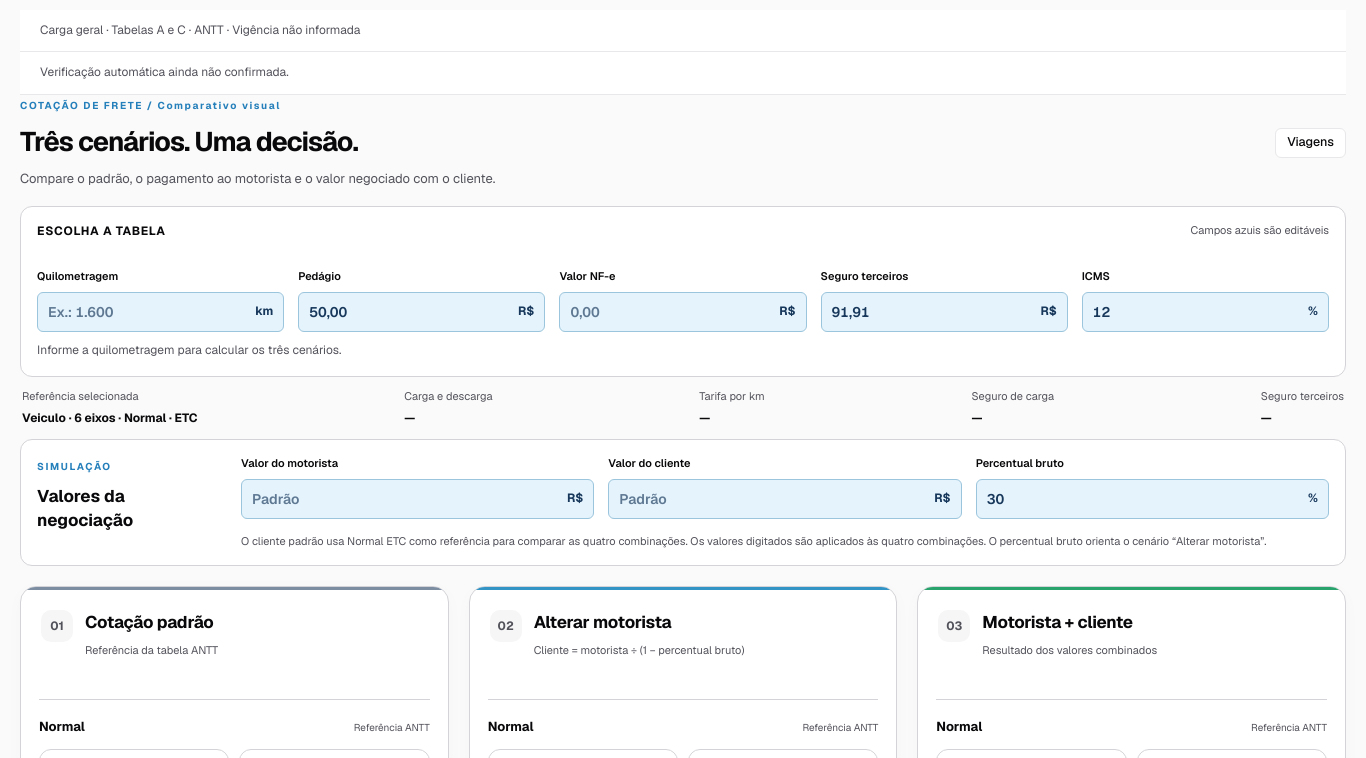
Test: reproduz a planilha com impostos nos custos e percentual bruto separado do líquido
The image size is (1366, 758).
expect the field labelled "Seguro terceiros" holds "91,91": met, box [822,293,1040,331]
Replace the text in the field labelled "Pedágio" with "0" at (409, 312), box [299,293,518,331]
Replace the text in the field labelled "Seguro terceiros" with "141,91" at (931, 312), box [822,293,1040,331]
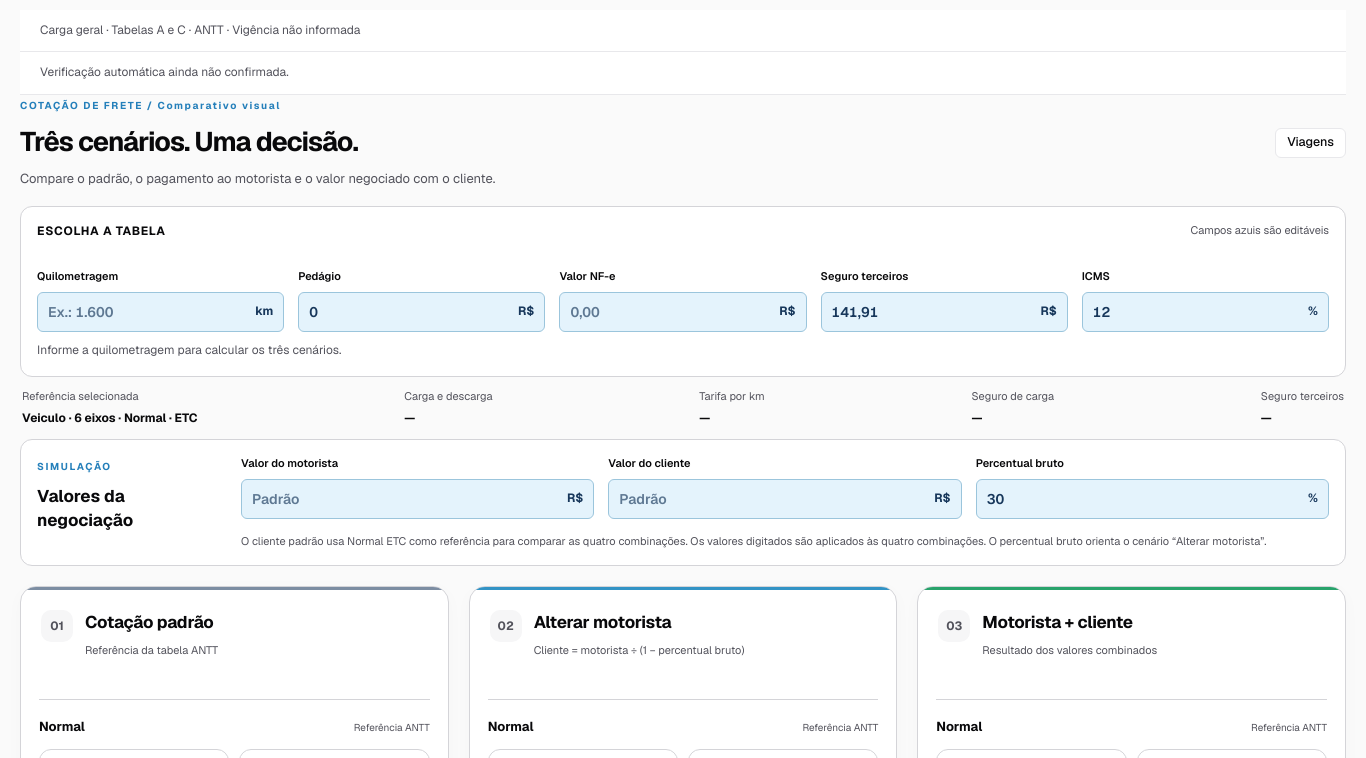
Type "1000" into the field labelled "Quilometragem" at (147, 312), box [38,293,255,331]
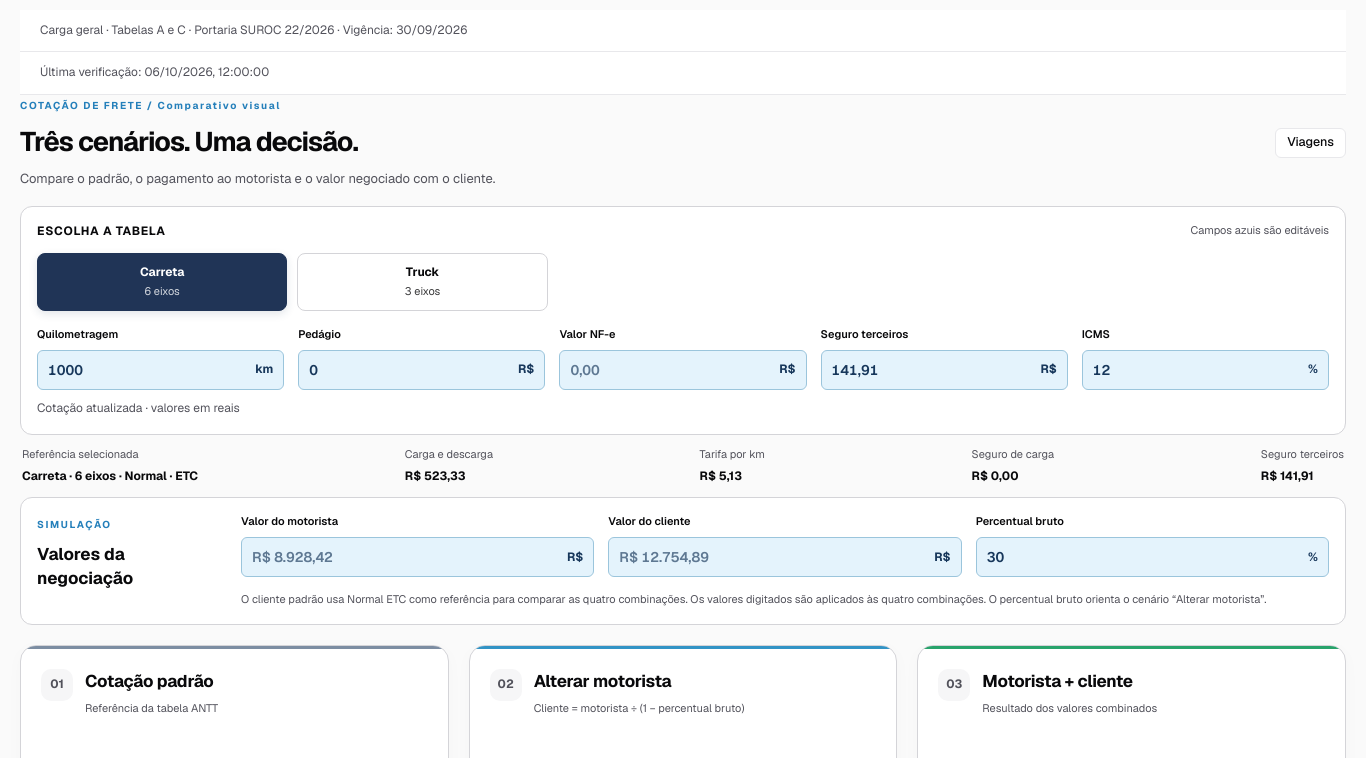
Type "9000" into the field labelled "Valor do motorista" at (404, 557), box [242,538,567,576]
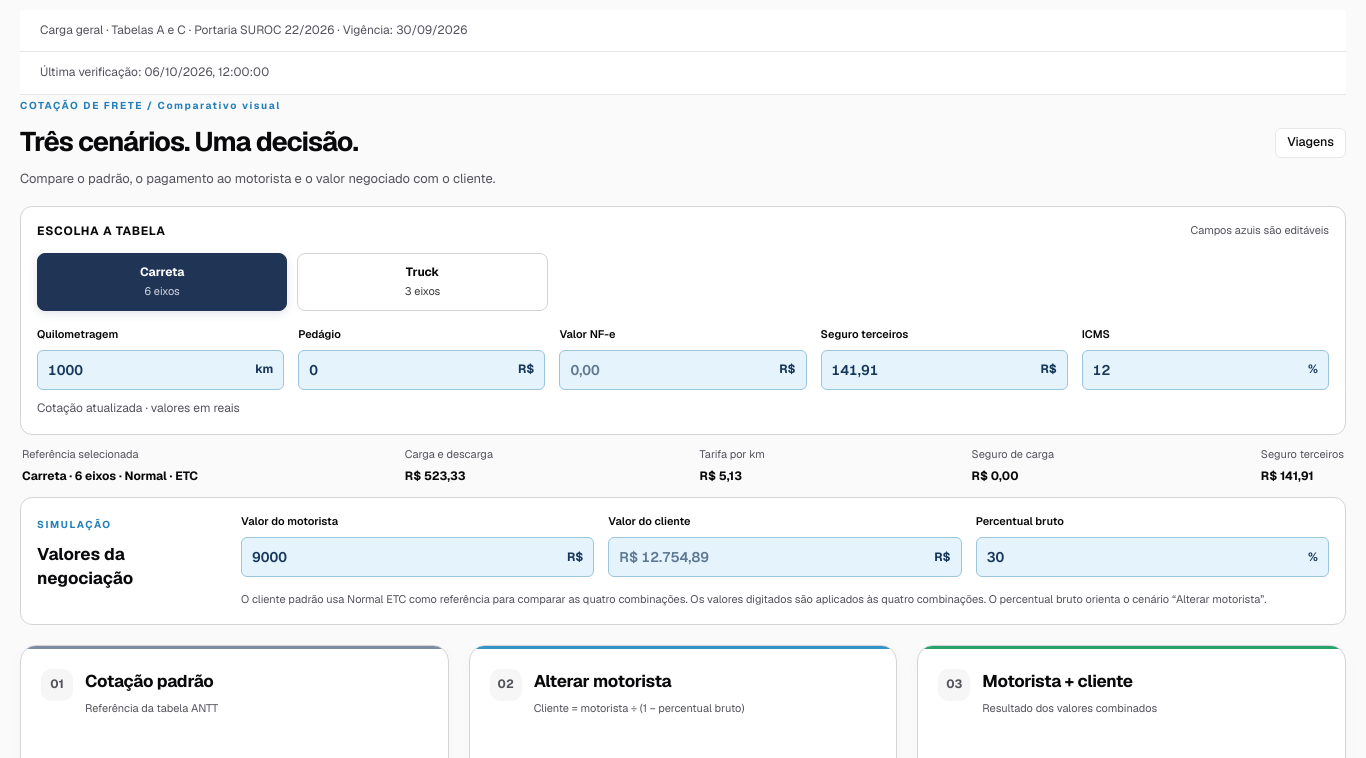
Replace the text in the field labelled "Percentual bruto" with "25" at (1142, 557), box [977,538,1308,576]
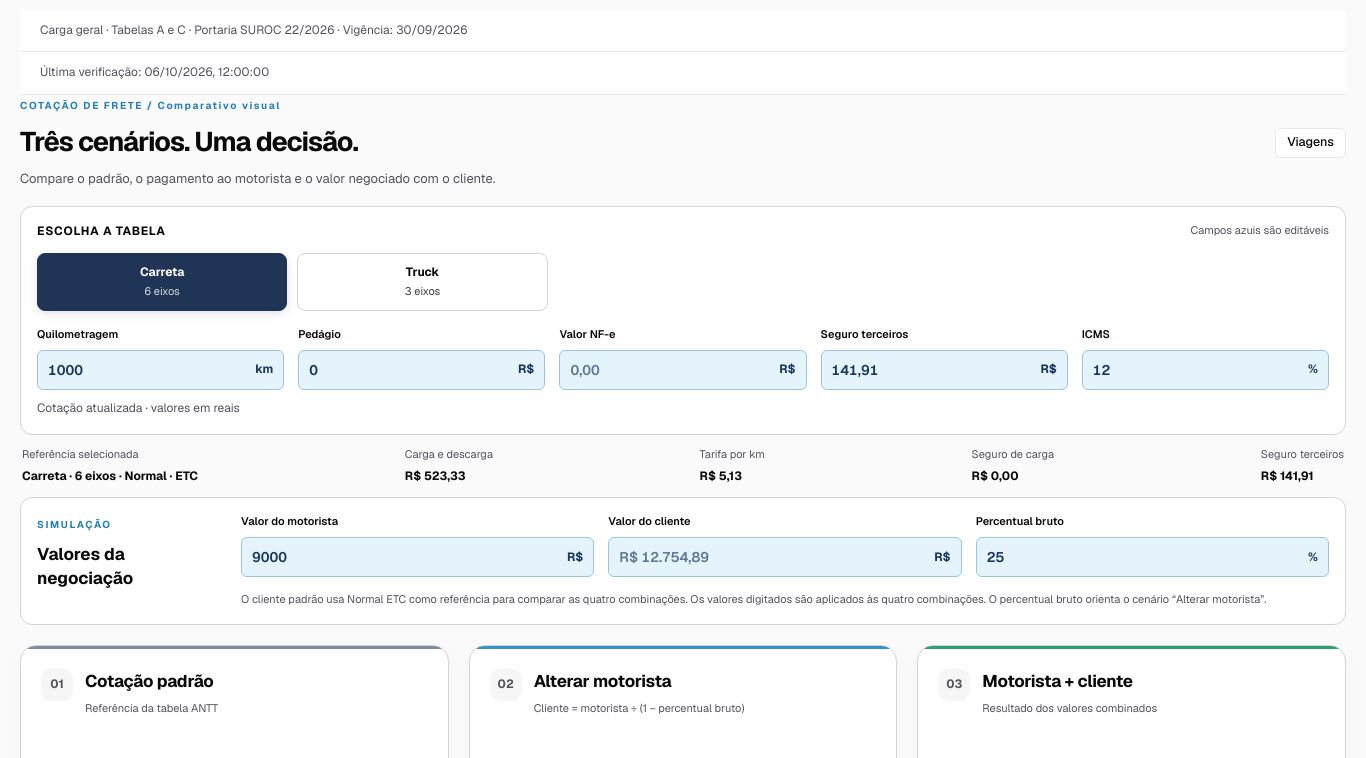
Replace the text in the field labelled "Percentual bruto" with "0" at (1142, 557), box [977,538,1308,576]
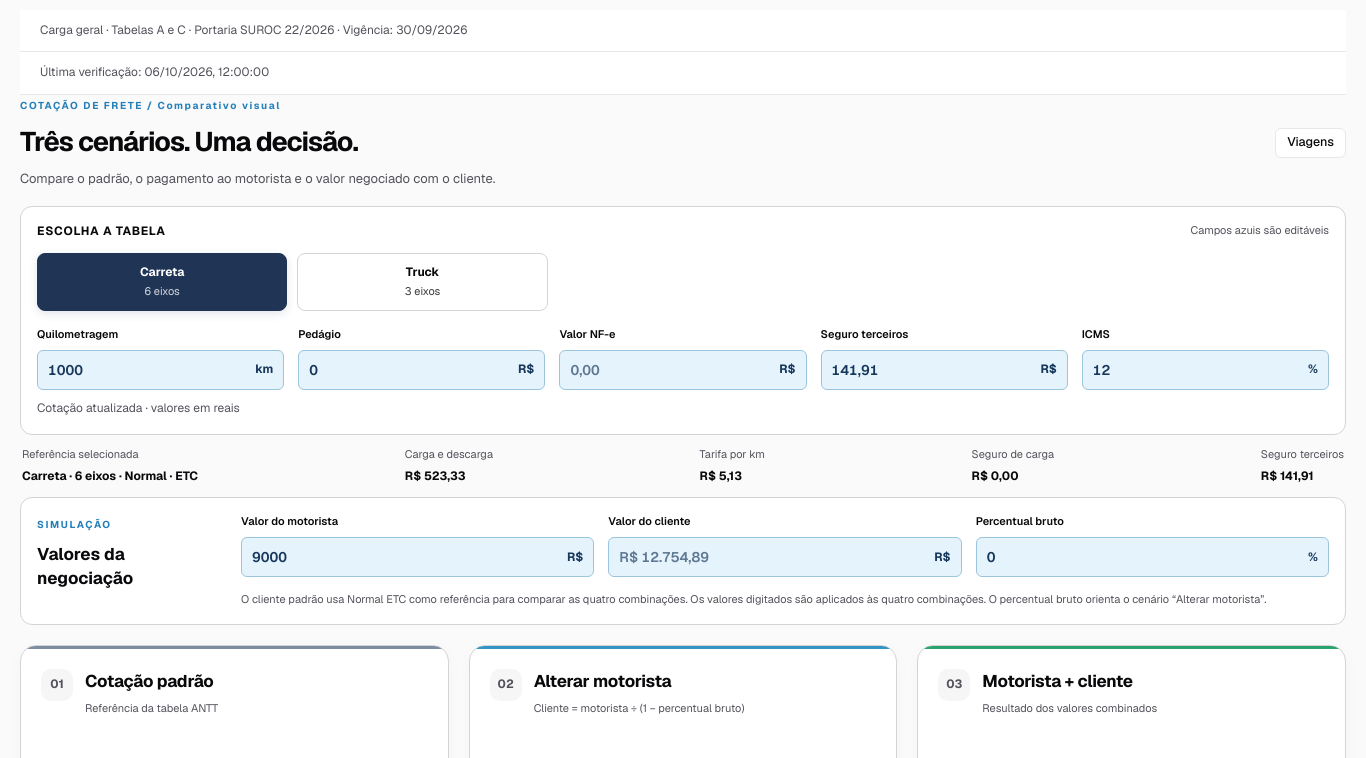
Replace the text in the field labelled "Percentual bruto" with "100" at (1142, 557), box [977,538,1308,576]
(page scrolled)
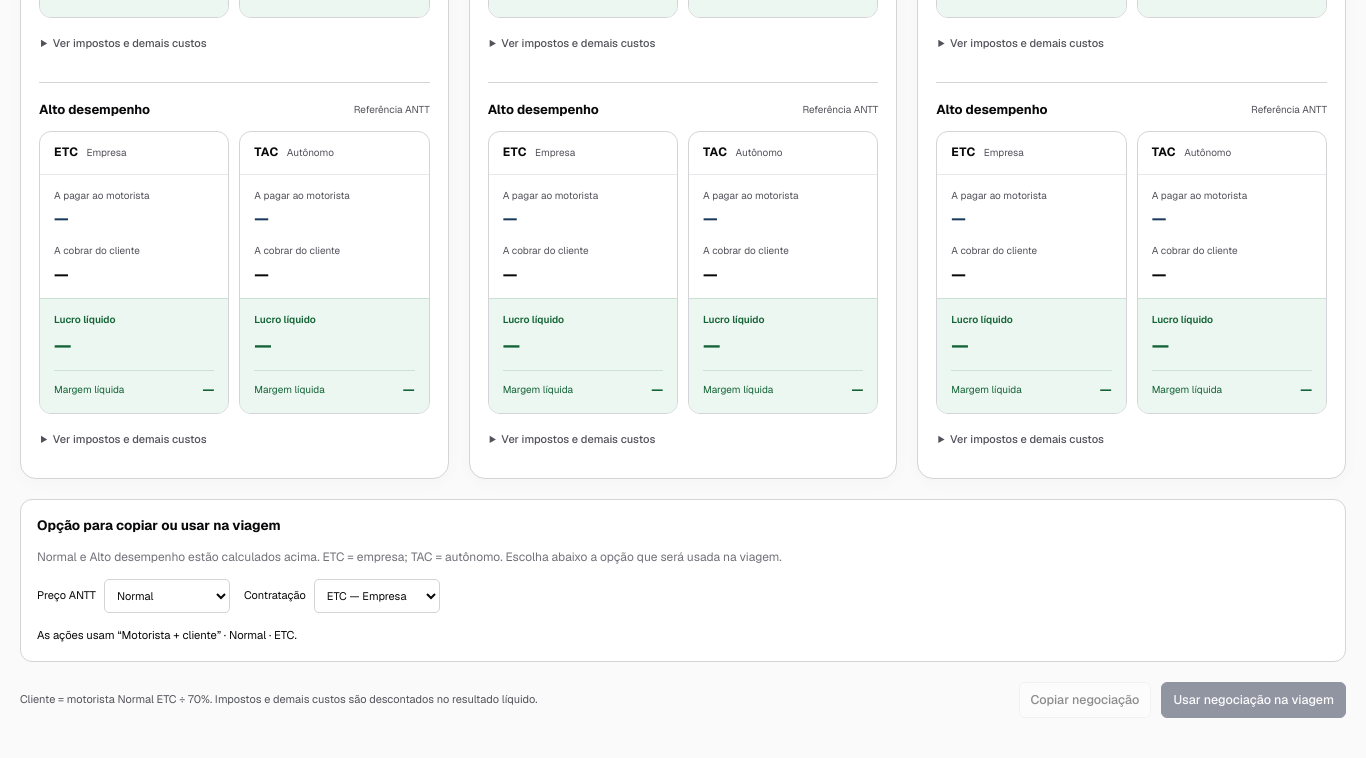
expect the button "Copiar negociação" is disabled: met, box [1018,682,1151,718]
